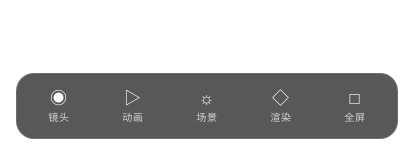
it: ExperienceControls › 能力探测部分不支持时只过滤对应动画项
Hover over the button "▷ 动画": (133,106) [97, 80, 169, 132]
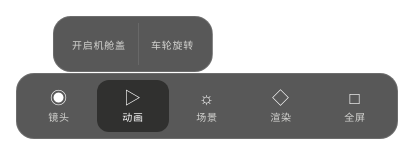
Now the menu item "开启机舱盖" is shown, box [60, 23, 139, 65]
